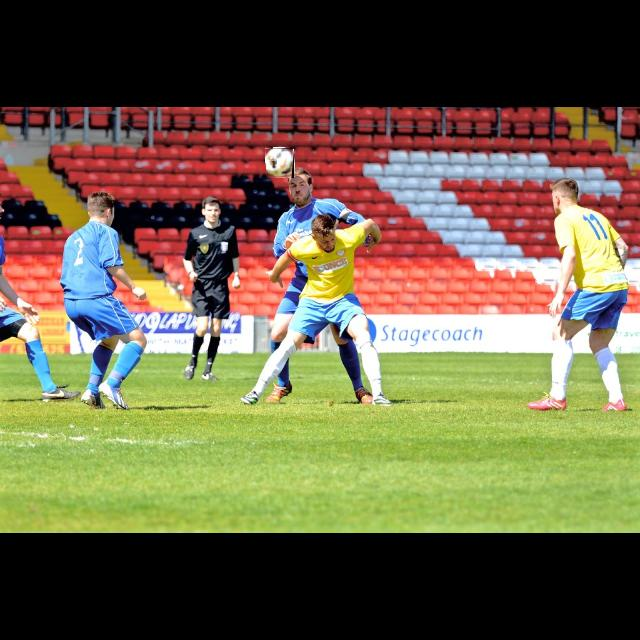Football: (266, 148, 294, 178)
